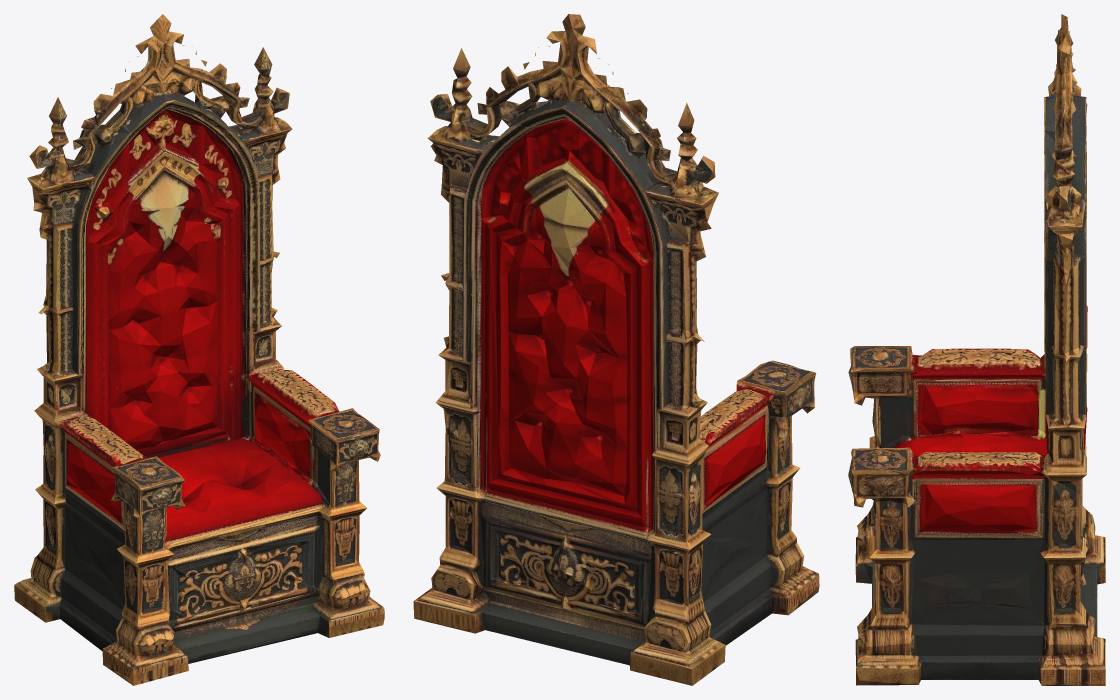
Rendered from throne_gothic_gold_lod0.glb.
3 renders of one model, left to right at view 1: azimuth 30°, elevation 25°; view 2: azimuth 150°, elevation 25°; view 3: azimuth 270°, elevation 25°, orthographic. The views are drawn at different scales.
Visible parts, largest first — view 1: throne_gothic_gold_lod0; view 2: throne_gothic_gold_lod0; view 3: throne_gothic_gold_lod0.
Part boxes in pixels (x1=…): throne_gothic_gold_lod0: x1=14, y1=14, x2=384, y2=685; throne_gothic_gold_lod0: x1=413, y1=14, x2=819, y2=685; throne_gothic_gold_lod0: x1=848, y1=14, x2=1105, y2=685.
Size of the model in its own units: 1.05 by 2.19 by 0.8459.
1 material, 1 textured.
